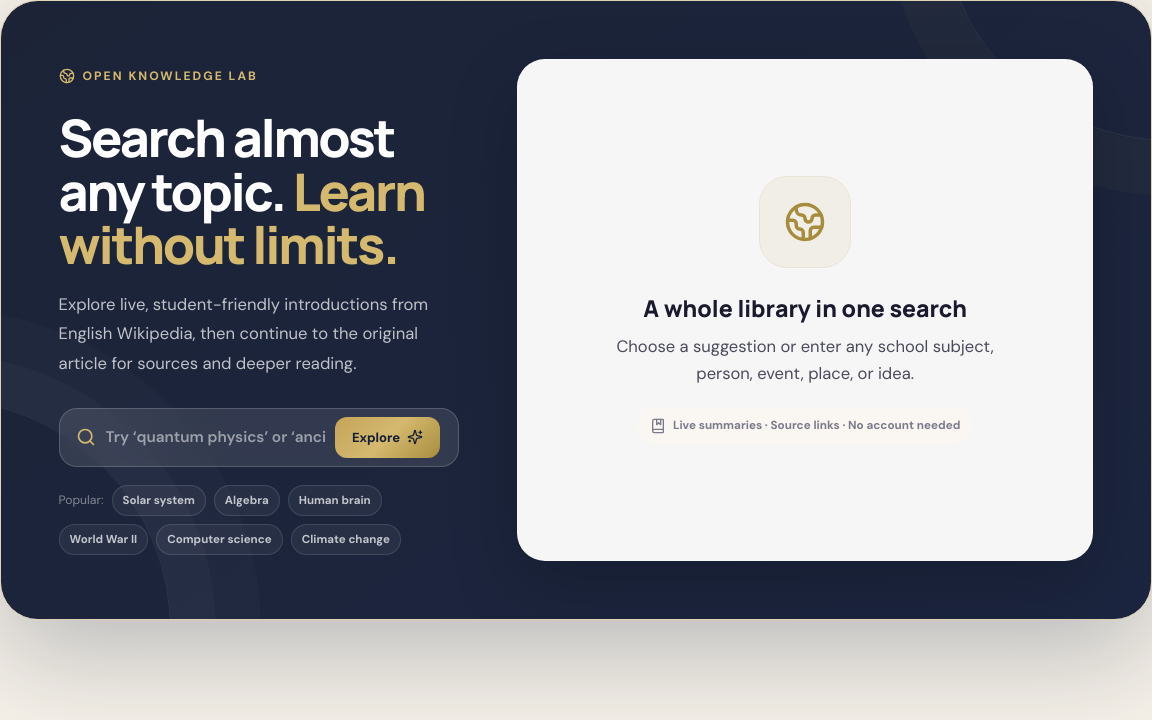
Test: WikipediaExplorer › shows a helpful error for a short query without making a request
Type "x" into the field named "Search Wikipedia topics".
click(215, 437); type("x")  # box [106,427,325,447]
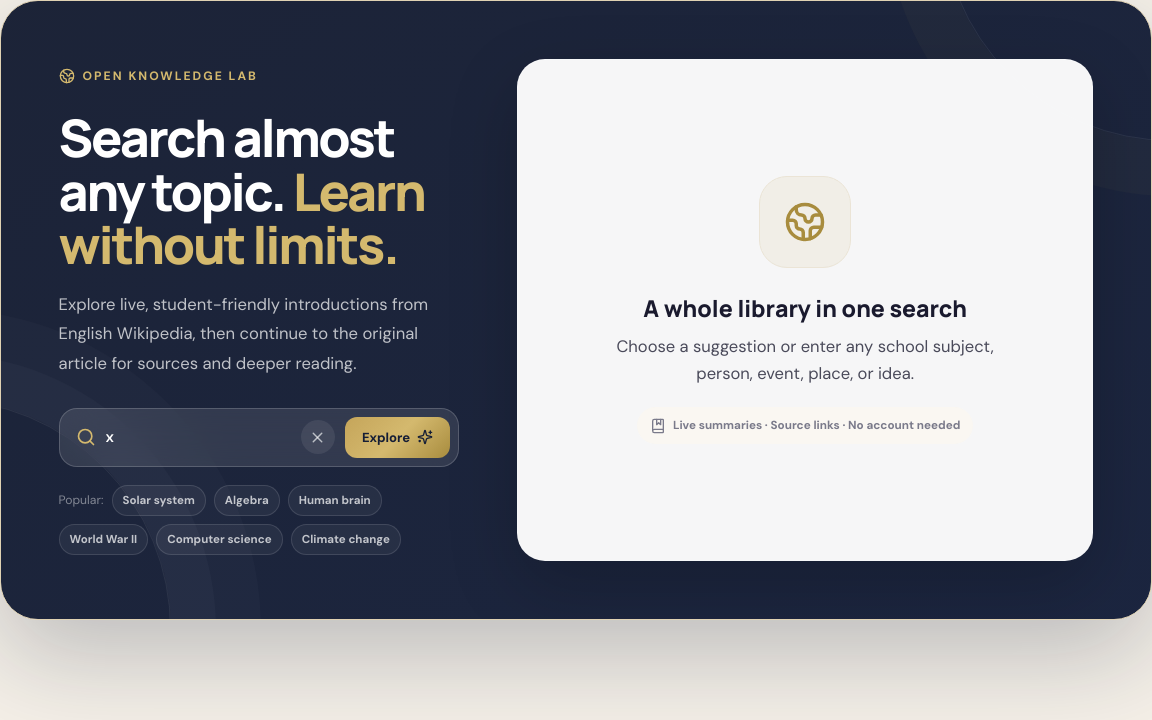
Click the button "Explore".
click(398, 437)  # box [345,417,450,458]
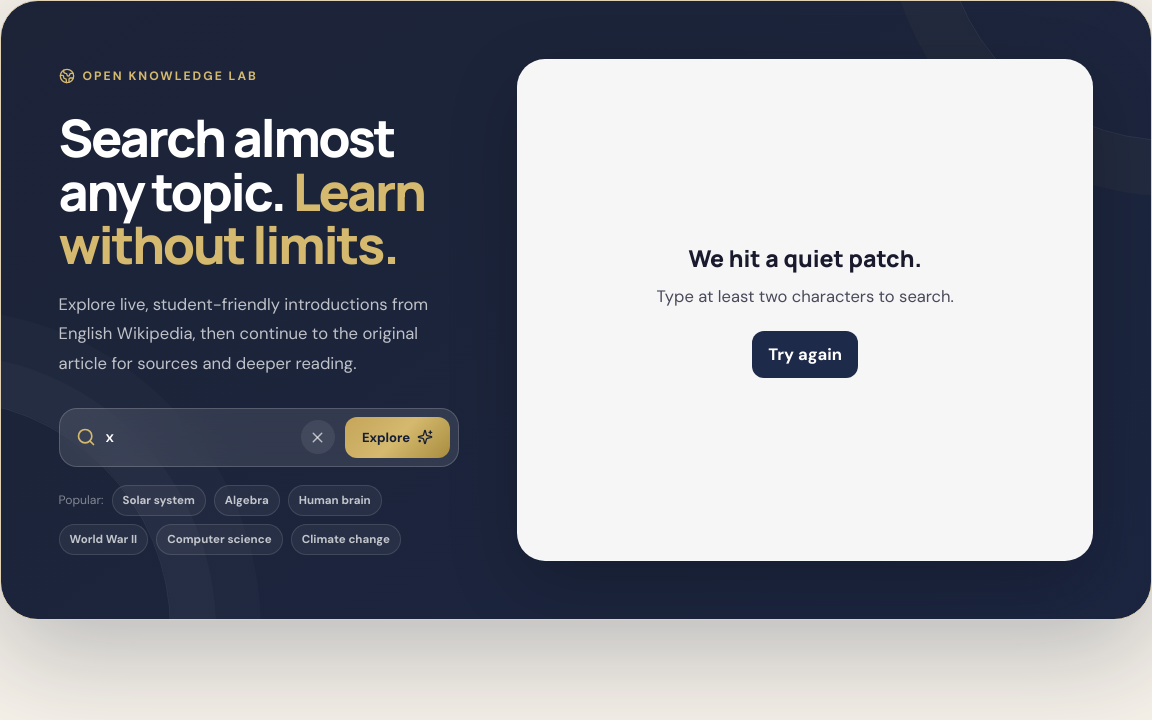
Expected: the text "Type at least two characters to search." is shown, [656,283,954,310]
